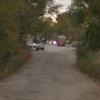Tree: (69, 1, 100, 74)
